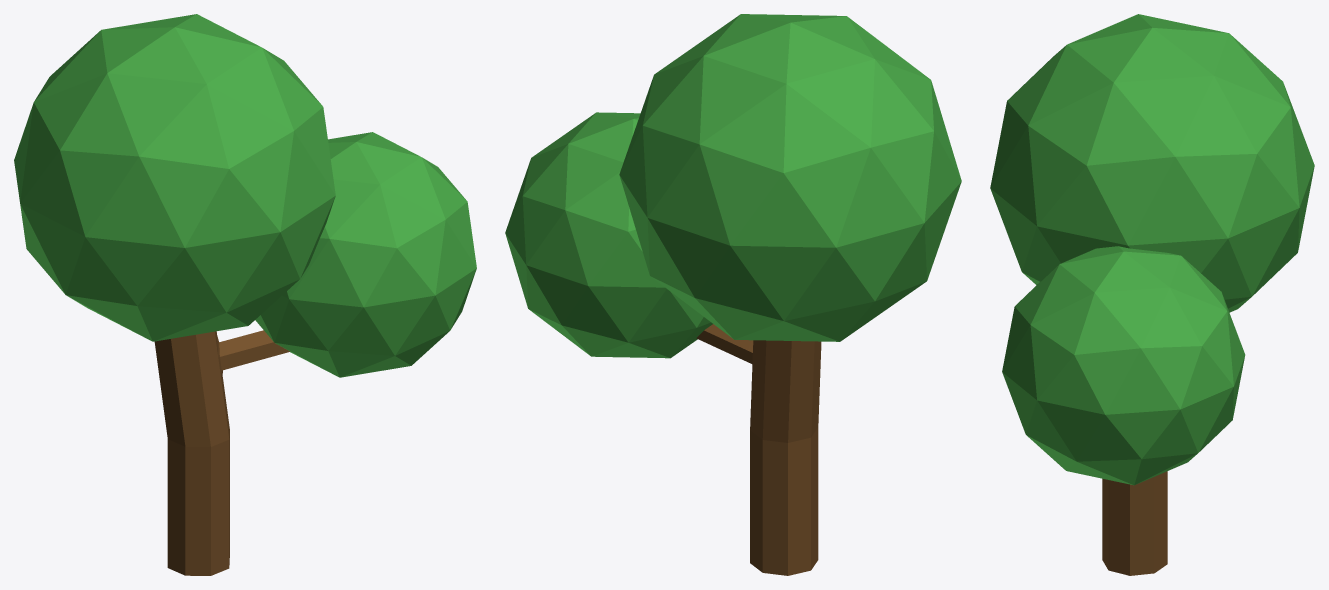
Rendered from Tree.fbx.
3 views of the same model, side by side, from view 1: azimuth 30°, elevation 25°; view 2: azimuth 150°, elevation 25°; view 3: azimuth 270°, elevation 25° (orthographic). The views are drawn at different scales.
Visible parts, largest first — view 1: Tree; view 2: Tree; view 3: Tree.
Part boxes in pixels (left/top/right/bottom): Tree: left=14, top=14, right=476, bottom=575; Tree: left=505, top=14, right=961, bottom=575; Tree: left=990, top=14, right=1314, bottom=575.
Bounding box in the file's own units: 152 × 186 × 104.
